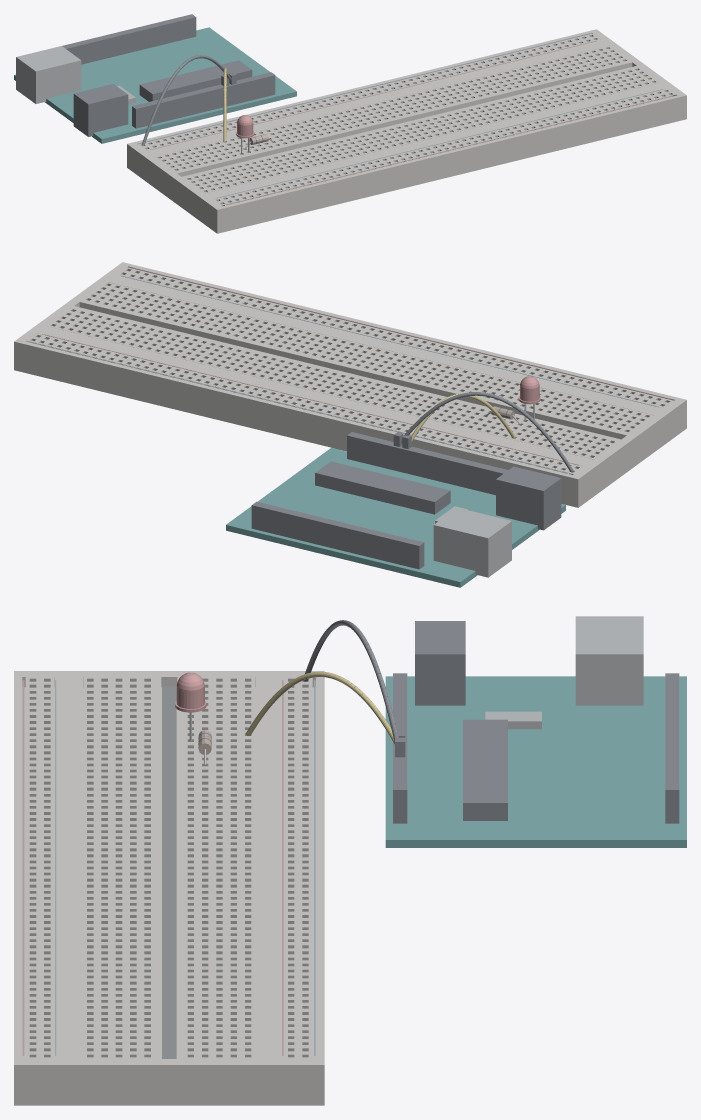
The model's file is step-5.glb.
3 views of the same model, one above another, from view 1: azimuth 30°, elevation 25°; view 2: azimuth 150°, elevation 25°; view 3: azimuth 270°, elevation 25° (orthographic). The views are drawn at different scales.
Visible parts, largest first — view 1: breadboard__mesh, uno__mesh, ground_feed__mesh, red_led__mesh; view 2: breadboard__mesh, uno__mesh, ground_feed__mesh, red_led__mesh, led_signal__mesh; view 3: breadboard__mesh, uno__mesh, ground_feed__mesh, led_signal__mesh, red_led__mesh.
Part boxes in pixels (box(x1,y1,x2,y2)): breadboard__mesh: box(127, 29, 686, 233); uno__mesh: box(14, 14, 296, 143); ground_feed__mesh: box(141, 55, 236, 145); red_led__mesh: box(236, 115, 254, 153); breadboard__mesh: box(14, 262, 686, 507); uno__mesh: box(226, 432, 565, 587); ground_feed__mesh: box(393, 392, 573, 472); red_led__mesh: box(518, 376, 540, 420); led_signal__mesh: box(402, 393, 515, 449); breadboard__mesh: box(14, 671, 324, 1105); uno__mesh: box(385, 616, 686, 847); ground_feed__mesh: box(303, 620, 405, 757); led_signal__mesh: box(245, 671, 405, 744); red_led__mesh: box(175, 672, 206, 741).
Size of the model in its own units: 0.1713 by 0.0286 by 0.1192.
